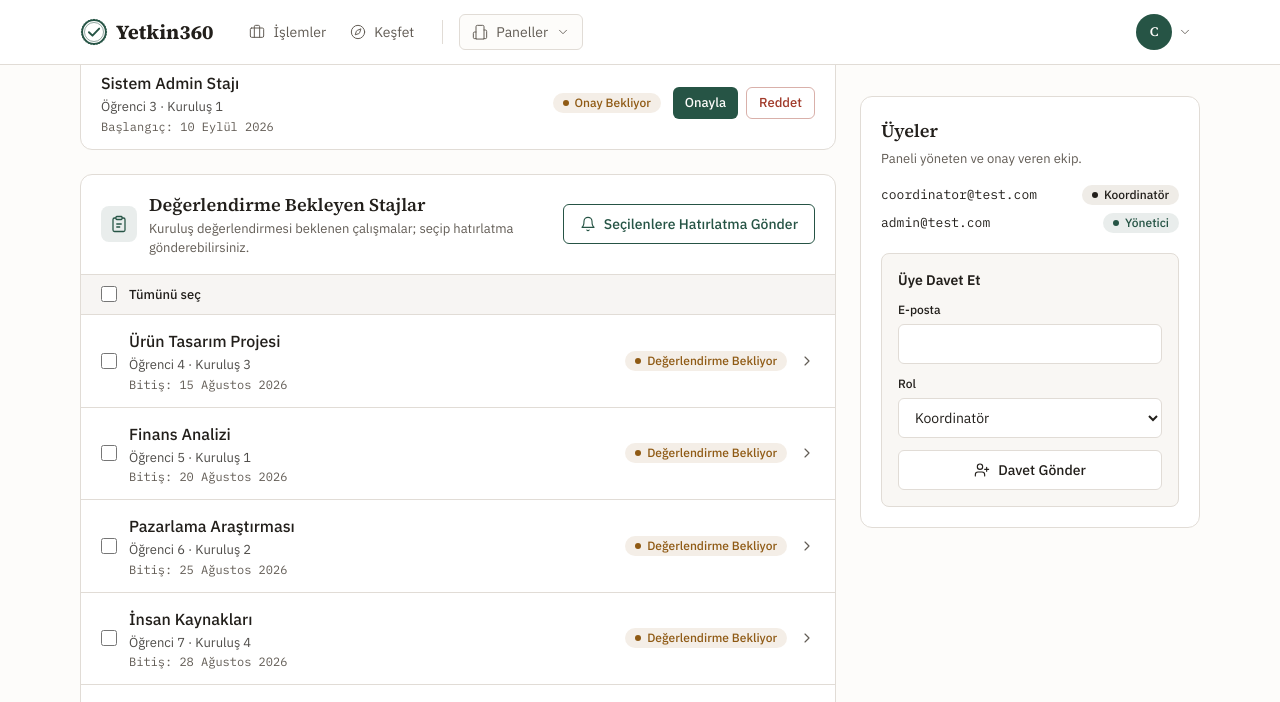
Test: KurumPanelPage (/kurum/[id]/panel) › YET-202/ENT-01: Toplu hatırlatma › hatırlatma gönderimi başarısız olursa hata mesajı gösterilir
This screenshot has width=1280, height=702.
(page scrolled)
Expected: the text "Ürün Tasarım Projesi" is shown, [129,331,280,351]
What coordinates should you click on to do the following:
click the checkbox named "Ürün Tasarım Projesi"
I would click on:
 (109, 361)
Its box is [101,353,117,369].
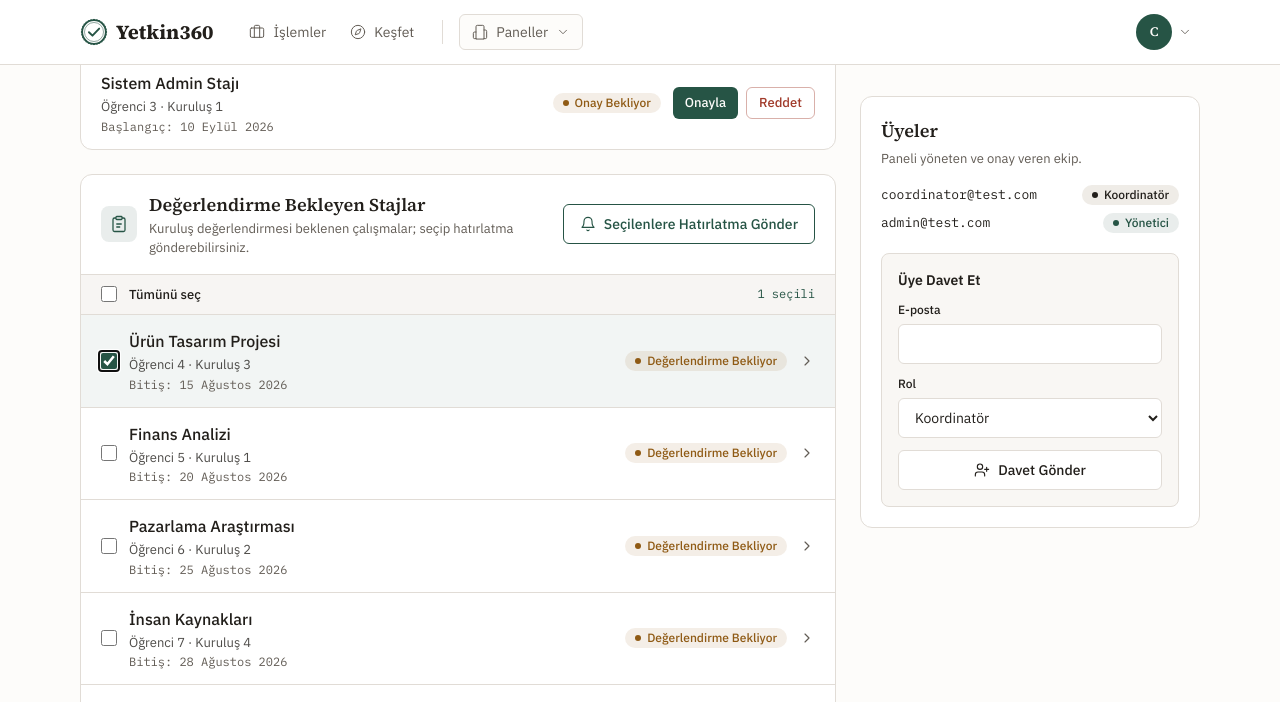
What coordinates should you click on to do the following:
click the button "Seçilenlere Hatırlatma Gönder"
I would click on:
 (689, 224)
Its box is [563,204,815,244].
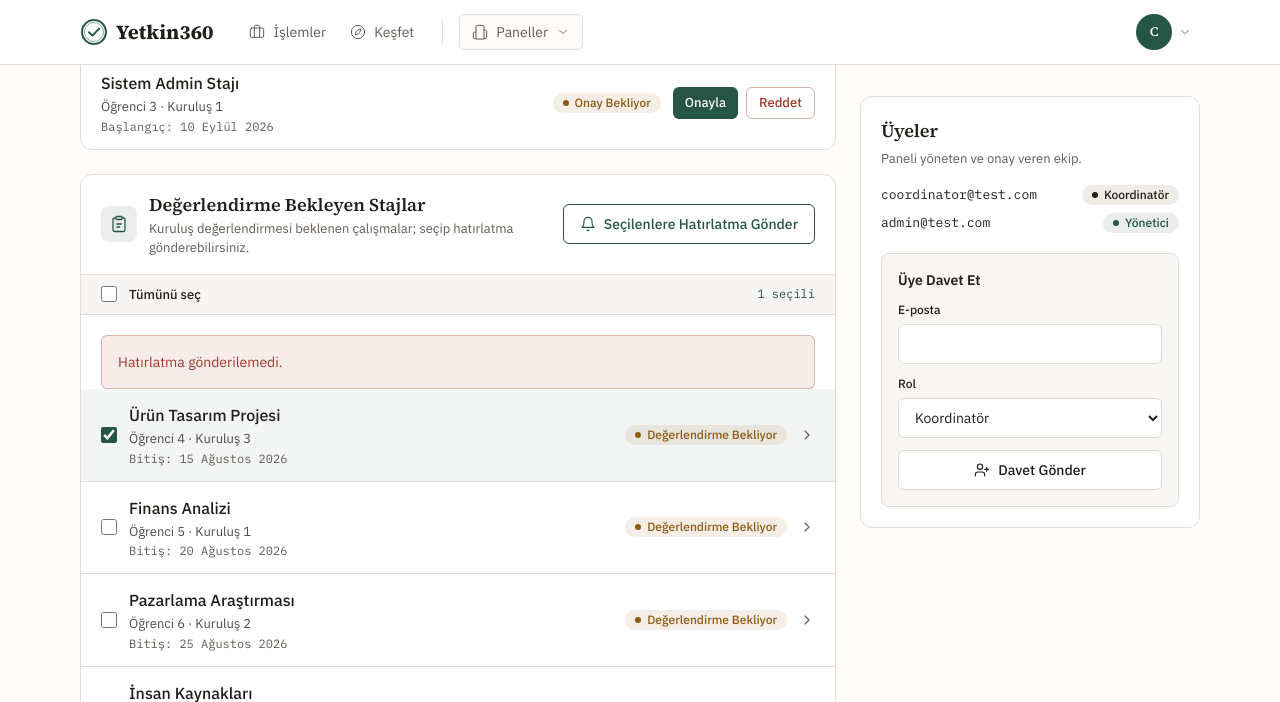
Now the text "Hatırlatma gönderilemedi." is shown, box [101,335,815,389]
